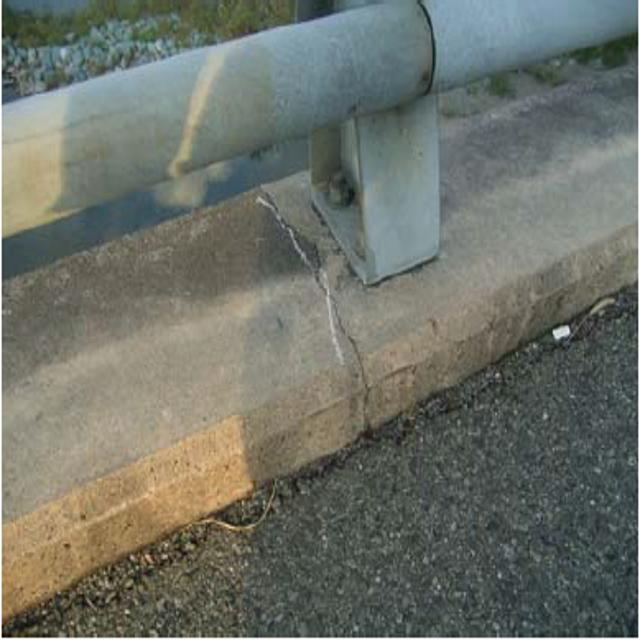crack: (256, 188, 404, 436)
